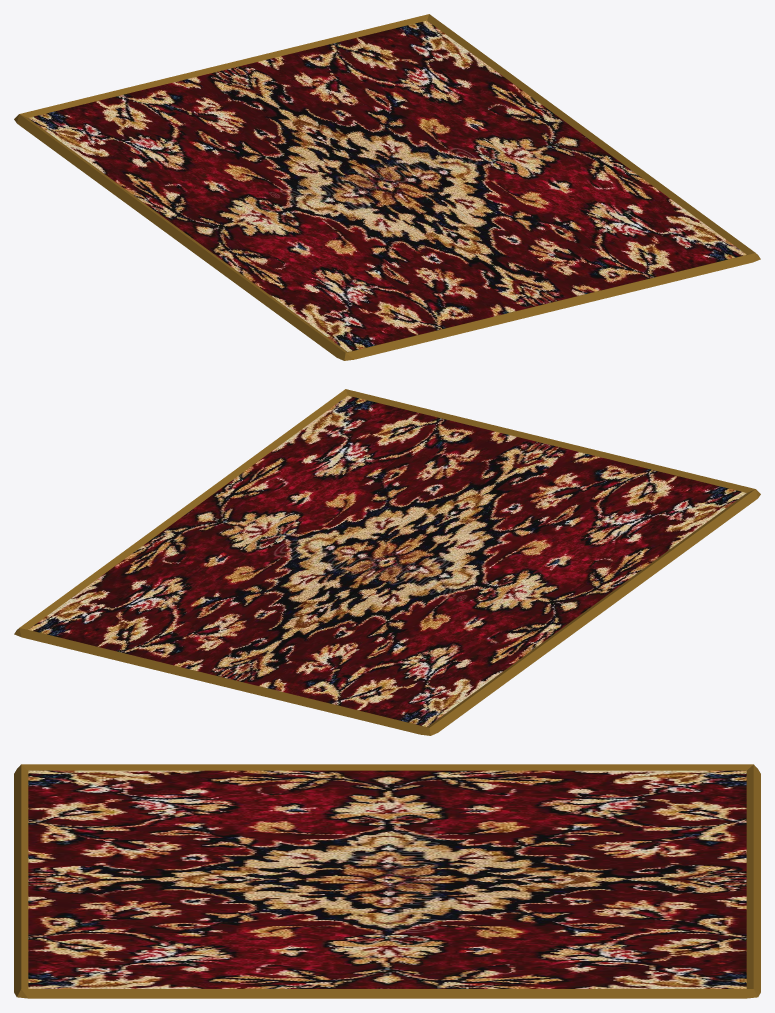
File: carpet.glb
The picture shows the model from 3 angles, top to bottom: view 1: azimuth 30°, elevation 25°; view 2: azimuth 150°, elevation 25°; view 3: azimuth 270°, elevation 25°; orthographic projection. The views are drawn at different scales.
Visible parts, largest first — view 1: carpet; view 2: carpet; view 3: carpet.
Part boxes in pixels (x1,y1,x2,y2): carpet: (14, 14, 760, 360); carpet: (14, 389, 760, 735); carpet: (14, 764, 760, 998).
Bounding box in the file's own units: 38 × 0.5 × 52.
2 materials, 1 textured.
